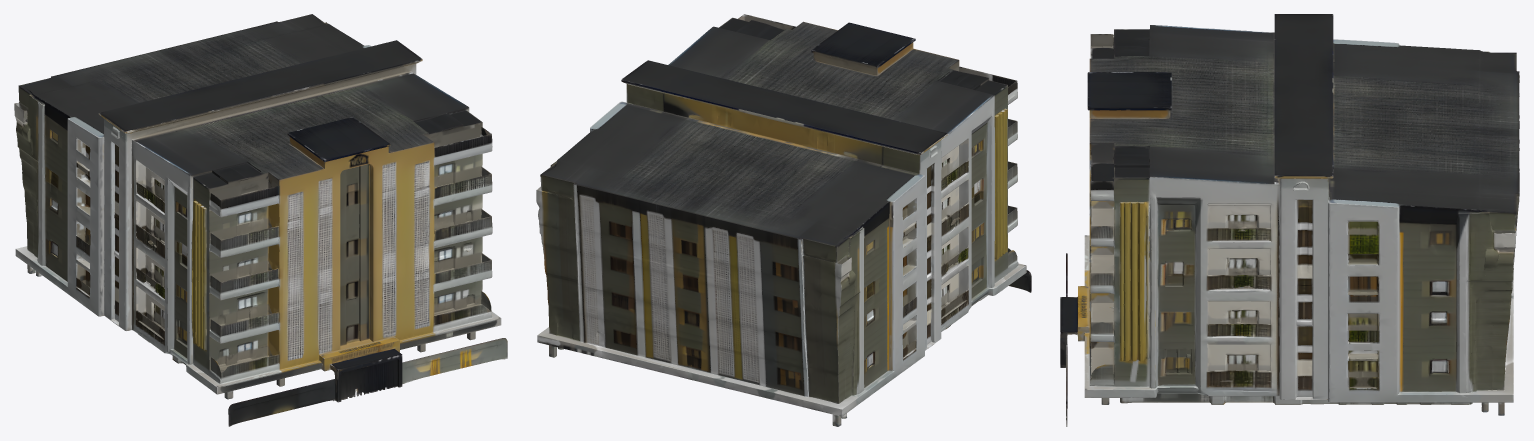
The model's file is hari-enclave.glb.
3 views of the same model, side by side, from view 1: azimuth 30°, elevation 25°; view 2: azimuth 150°, elevation 25°; view 3: azimuth 270°, elevation 25° (orthographic). The views are drawn at different scales.
Visible parts, largest first — view 1: model; view 2: model; view 3: model.
Part boxes in pixels (bbox=[...]): model: bbox=[14, 14, 507, 426]; model: bbox=[536, 14, 1031, 426]; model: bbox=[1060, 14, 1519, 426].
Bounding box in the file's own units: 1.63 × 1.2 × 1.91.
Materials: 1 (1 with a texture image).
